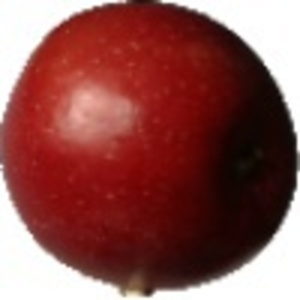maçã braeburn: (1, 1, 300, 287)
